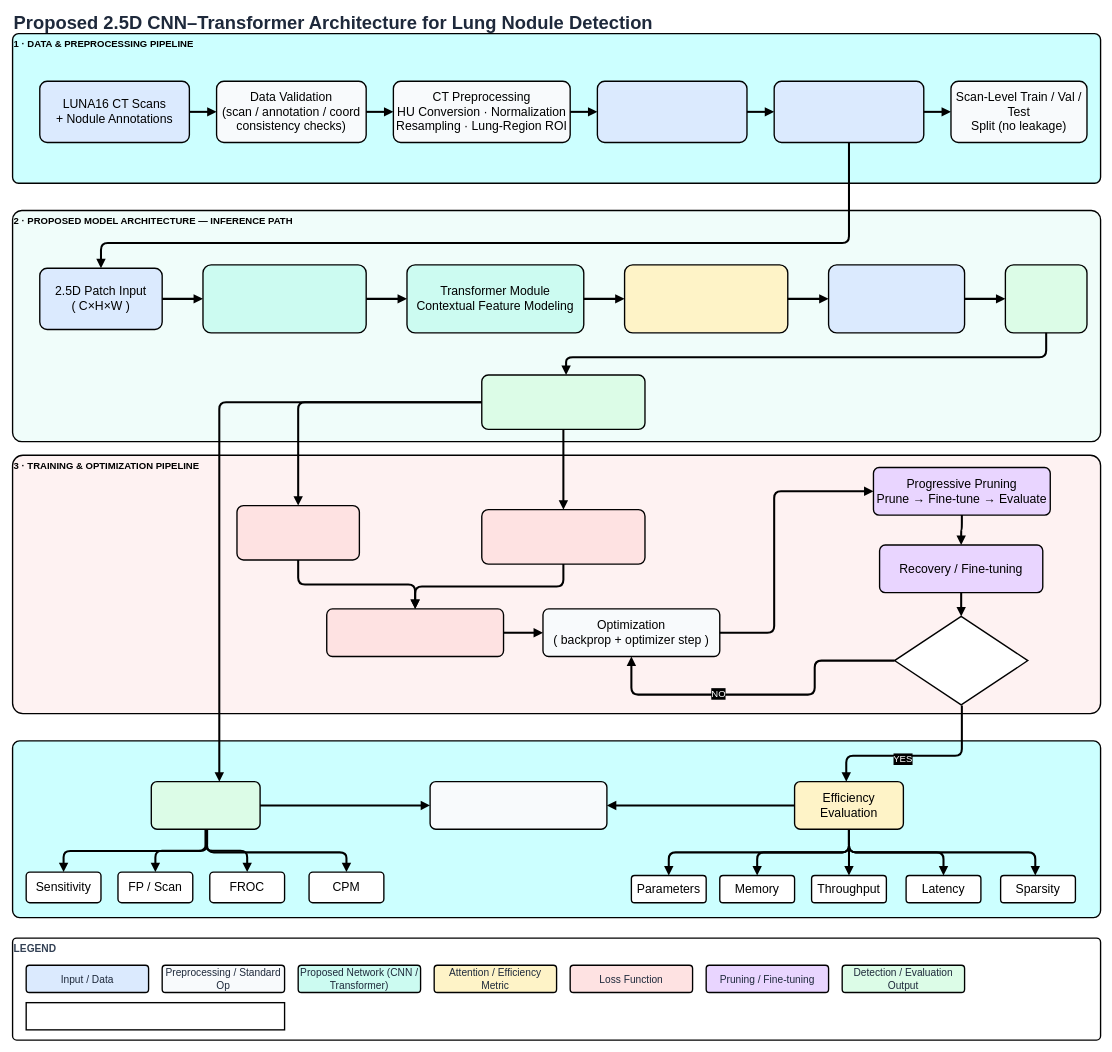
Image size: 1112x1052. Some labels were removed from this diagram. Each missing label, with the box of its shape:
2.5D Slice Formation ( z-1, z, z+1, ... ): (596, 80, 747, 143)
4 · EVALUATION: (12, 740, 1101, 918)
Attention Module Channel / Spatial Re-weighting: (624, 264, 788, 333)
Candidate / Patch Generation: (773, 80, 924, 143)
CNN Backbone Local Feature Extraction: (202, 264, 367, 333)
Dashed = auxiliary / control / loop-back connection: (25, 1002, 285, 1030)
Detection Evaluation: (150, 781, 260, 830)
Detection Head: (1004, 264, 1087, 333)
Detection Loss ( L_det ): (236, 505, 360, 560)
Final Model: (429, 781, 607, 830)
Multi-Scale Feature Fusion: (828, 264, 965, 333)
NFD Loss Nodule Feature Diversity ( L_NFD ): (481, 509, 645, 564)
Nodule Predictions: (481, 374, 645, 430)
Stopping Criterion reached: (894, 615, 1028, 705)
Total Loss L_total = L_det + λ·L_NFD: (326, 608, 504, 657)
